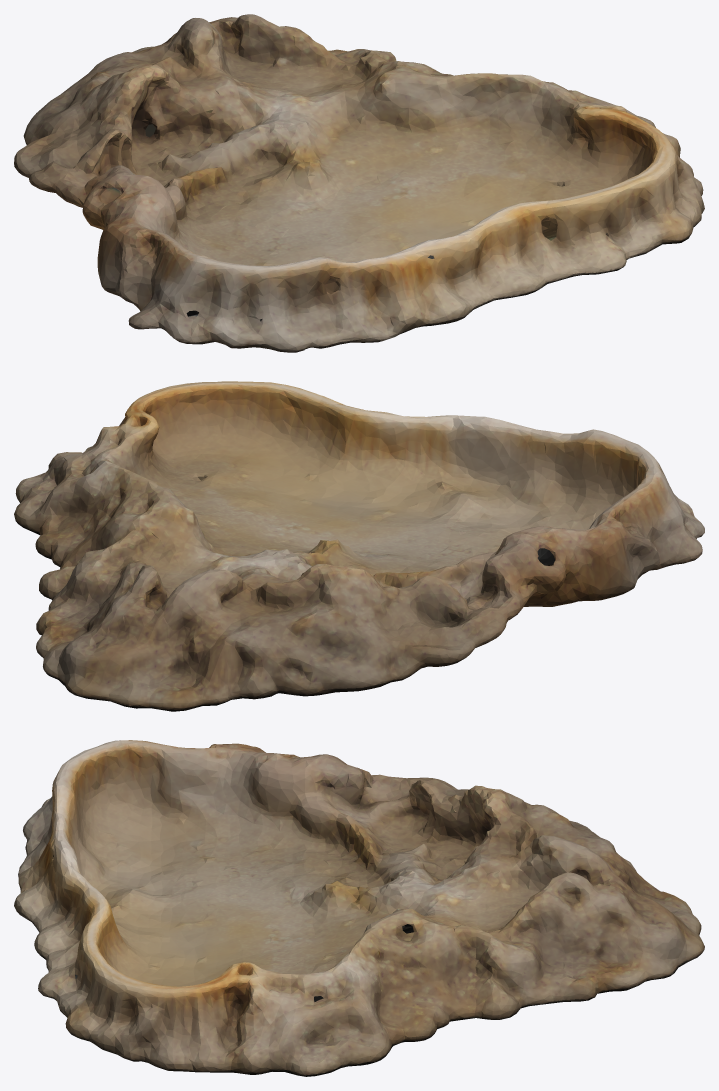
3 renders of one model, top to bottom at view 1: azimuth 30°, elevation 25°; view 2: azimuth 150°, elevation 25°; view 3: azimuth 270°, elevation 25°, orthographic. The views are drawn at different scales.
Parts seen in each view (by area): view 1: world; view 2: world; view 3: world.
Part boxes in pixels (x1,y1,x2,y2): world: (14,14,704,352); world: (14,381,704,711); world: (14,740,704,1076).
Bounding box in the file's own units: 0.9796 × 0.1531 × 0.9925.
1 material, 1 textured.
